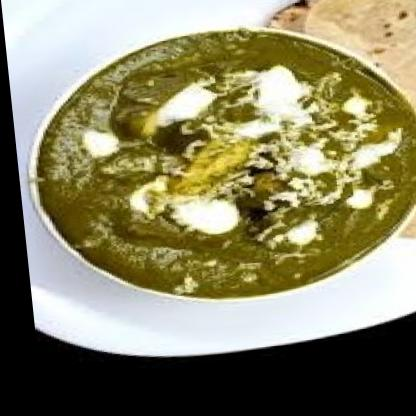palak_paneer: (22, 22, 416, 315)
